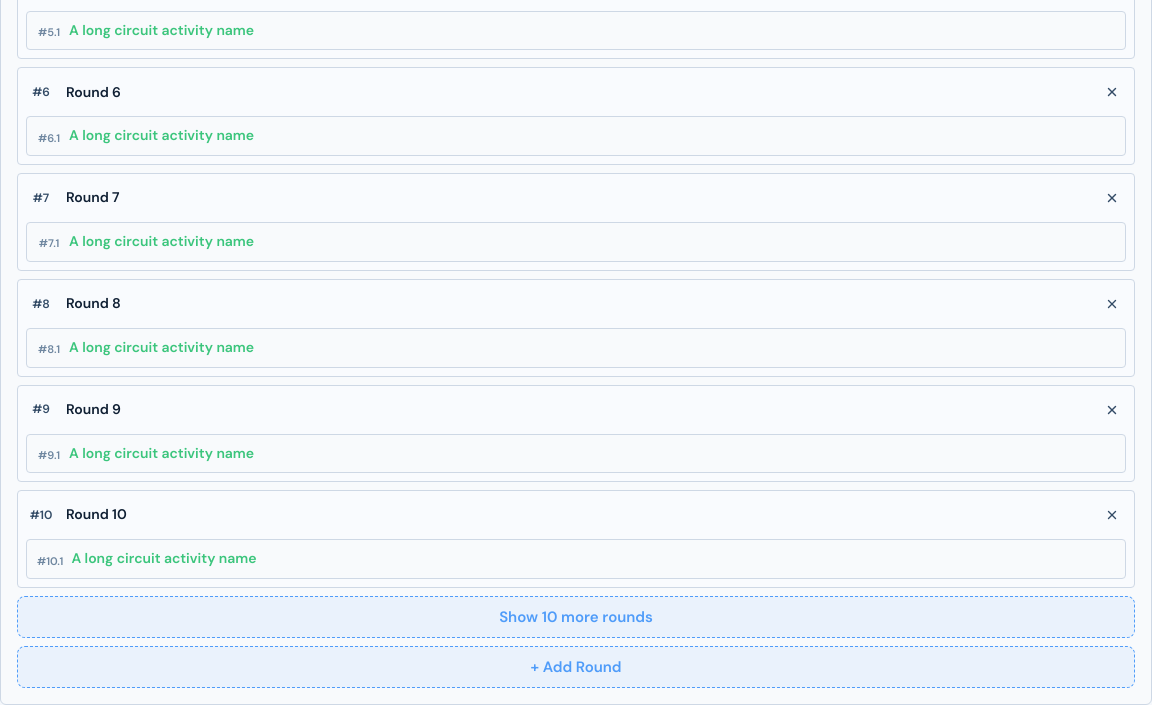
CircuitRunCard selection and scale behavior › bounds initial round rendering and progressively reveals more work
(page scrolled)
Expected: the text "Round 10" is shown, top-left (66, 504), bottom-right (127, 526)
Click the button "Show 10 more rounds".
click(576, 617)  # box top-left (17, 596), bottom-right (1135, 638)
(page scrolled)
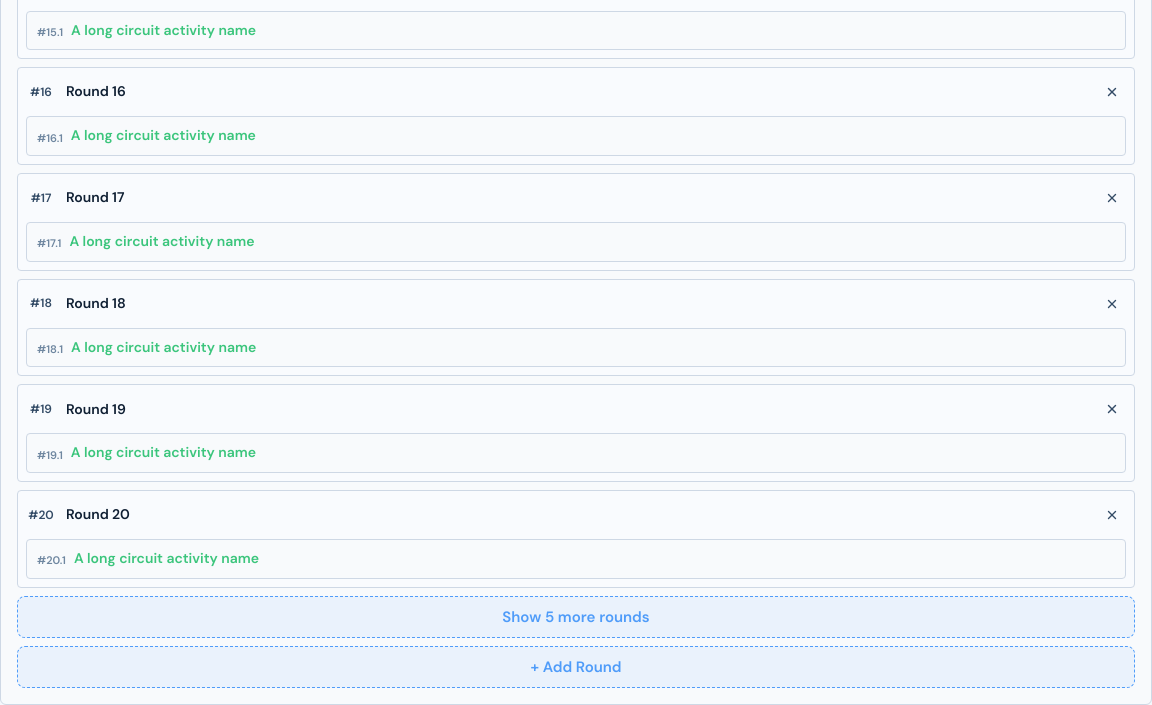
Expected: the text "Round 20" is shown, top-left (66, 504), bottom-right (130, 526)
Click the button "Show 5 more rounds".
click(576, 617)  # box top-left (17, 596), bottom-right (1135, 638)
(page scrolled)
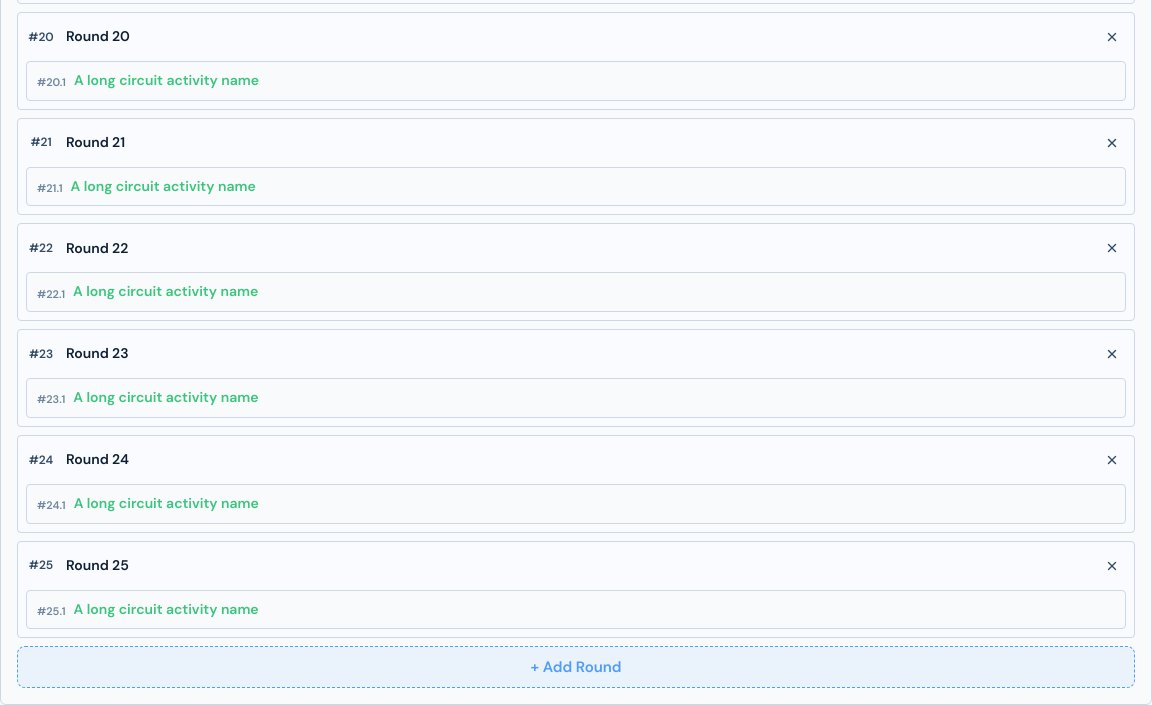
Expected: the text "Round 25" is shown, top-left (66, 555), bottom-right (129, 576)
